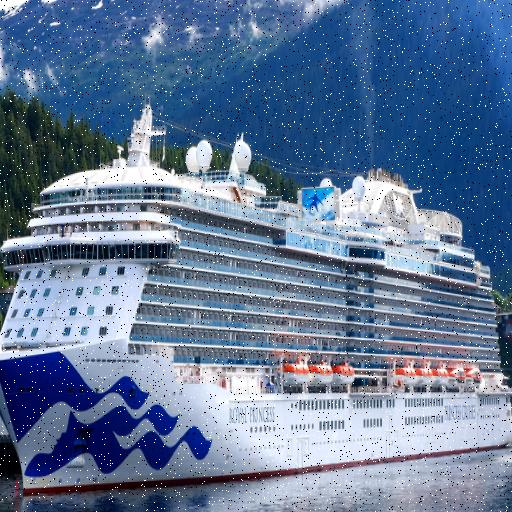cruises: (1, 94, 512, 504)
